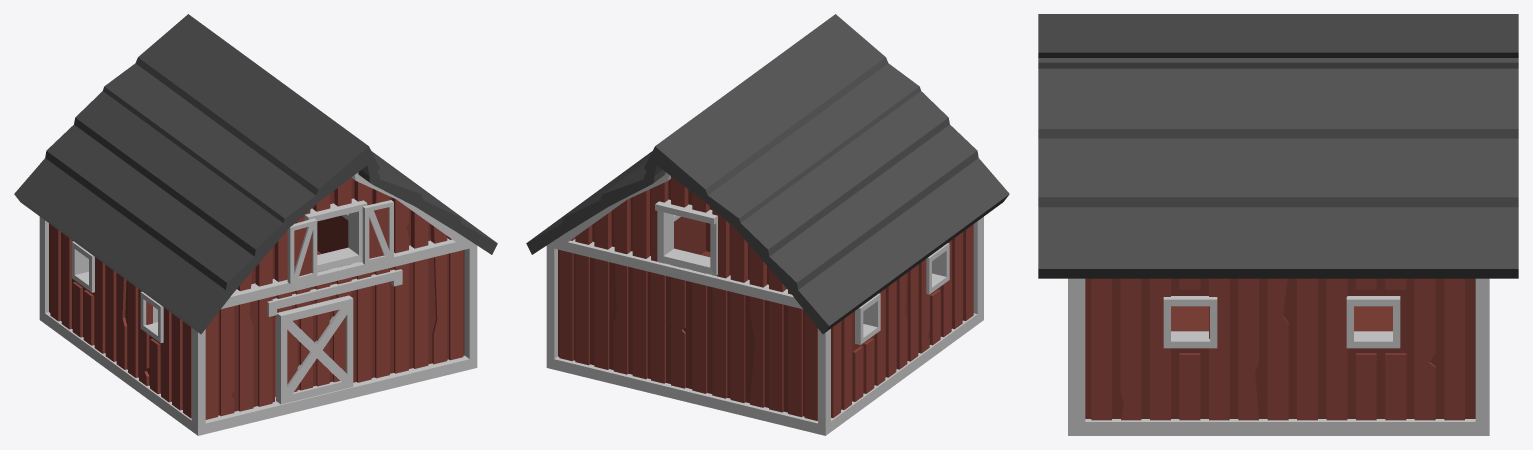
The model's file is smallbarn.glb.
The picture shows the model from 3 angles, left to right: view 1: azimuth 30°, elevation 25°; view 2: azimuth 150°, elevation 25°; view 3: azimuth 270°, elevation 25°; orthographic projection. The views are drawn at different scales.
Parts seen in each view (by area): view 1: Small_Barn_Cube.013; view 2: Small_Barn_Cube.013; view 3: Small_Barn_Cube.013.
Part boxes in pixels (box(x1,y1,x2,y2)): Small_Barn_Cube.013: box(14, 14, 497, 435); Small_Barn_Cube.013: box(526, 14, 1009, 435); Small_Barn_Cube.013: box(1038, 14, 1518, 435).
Bounding box in the file's own units: 6.08 × 4.96 × 6.27.
